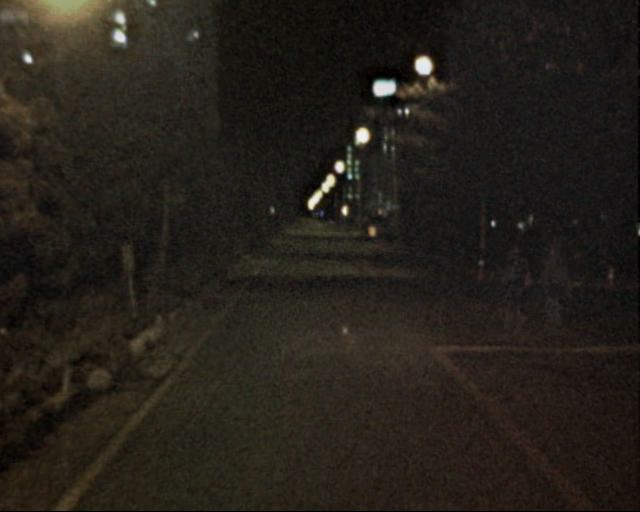person: (535, 234, 576, 333), (498, 247, 535, 337)
